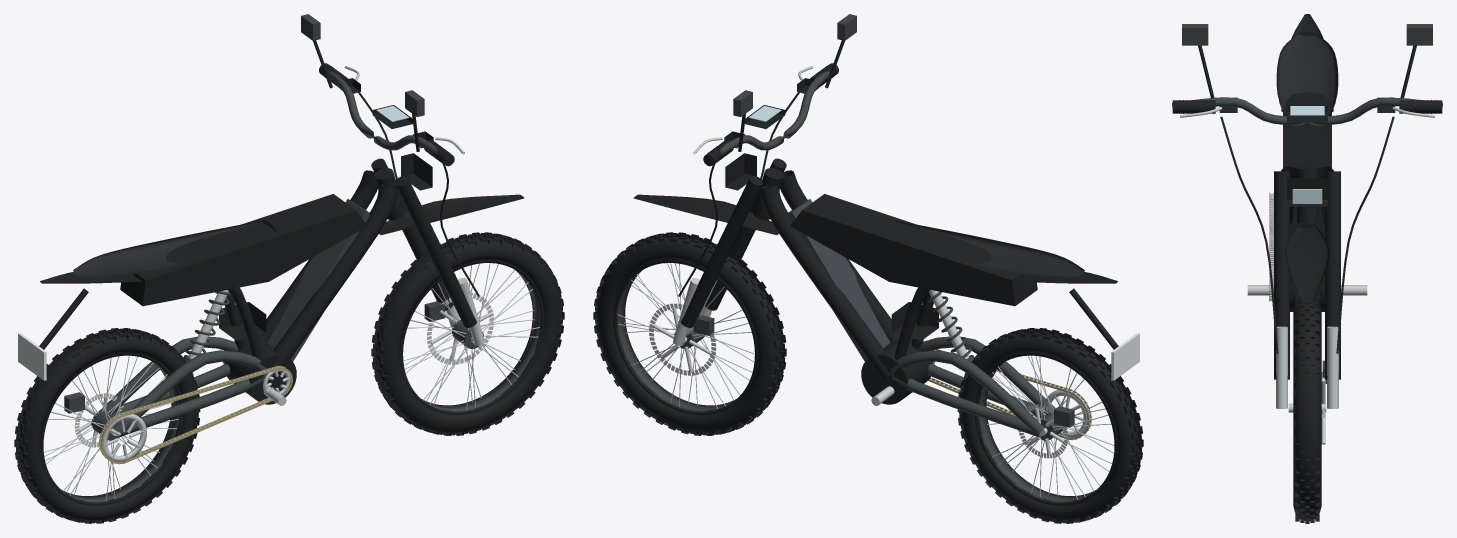
File: talaria-xxx-l1e.glb
The picture shows the model from 3 angles, left to right: view 1: azimuth 30°, elevation 25°; view 2: azimuth 150°, elevation 25°; view 3: azimuth 270°, elevation 25°; orthographic projection. The views are drawn at different scales.
Visible parts, largest first — view 1: FrontWheel | rubber, BatteryMount | black, RearWheel | rubber, Chassis | black, RearSuspension | graphite, Bodywork | black, Fork | black, FrontWheel | steel, Bodywork | seat, RearWheel | steel, Bodywork | graphite, FrontWheel | graphite (+12 smaller); view 2: FrontWheel | rubber, BatteryMount | black, RearWheel | rubber, Chassis | black, RearSuspension | graphite, Bodywork | black, FrontWheel | steel, Fork | black, Bodywork | seat, RearWheel | steel, Bodywork | graphite, Cockpit | graphite (+11 smaller); view 3: FrontWheel | rubber, Fork | black, Bodywork | black, Bodywork | seat, Cockpit | graphite, BatteryMount | black, Cockpit | rubber, Fork | steel, Cockpit | black, Chassis | black, Drive | steel, Bodywork | lens (+3 smaller).
Part boxes in pixels (x1=…): FrontWheel | rubber: x1=371, y1=232, x2=564, y2=435; BatteryMount | black: x1=120, y1=194, x2=367, y2=306; RearWheel | rubber: x1=14, y1=328, x2=200, y2=523; Chassis | black: x1=224, y1=168, x2=404, y2=379; RearSuspension | graphite: x1=98, y1=291, x2=267, y2=437; Bodywork | black: x1=39, y1=153, x2=524, y2=349; Fork | black: x1=371, y1=158, x2=476, y2=327; FrontWheel | steel: x1=403, y1=263, x2=539, y2=409; Bodywork | seat: x1=73, y1=220, x2=276, y2=277; RearWheel | steel: x1=43, y1=355, x2=178, y2=500; Bodywork | graphite: x1=267, y1=199, x2=369, y2=361; FrontWheel | graphite: x1=422, y1=271, x2=540, y2=411; FrontWheel | rubber: x1=593, y1=232, x2=786, y2=435; BatteryMount | black: x1=790, y1=194, x2=1037, y2=306; RearWheel | rubber: x1=957, y1=328, x2=1143, y2=523; Chassis | black: x1=753, y1=168, x2=933, y2=379; RearSuspension | graphite: x1=889, y1=291, x2=1055, y2=437; Bodywork | black: x1=633, y1=153, x2=1118, y2=349; FrontWheel | steel: x1=617, y1=263, x2=754, y2=408; Fork | black: x1=681, y1=158, x2=786, y2=327; Bodywork | seat: x1=881, y1=220, x2=1084, y2=277; RearWheel | steel: x1=987, y1=355, x2=1114, y2=499; Bodywork | graphite: x1=788, y1=199, x2=890, y2=361; Cockpit | graphite: x1=707, y1=14, x2=856, y2=161; FrontWheel | rubber: x1=1293, y1=294, x2=1321, y2=523; Fork | black: x1=1274, y1=171, x2=1340, y2=379; Bodywork | black: x1=1281, y1=14, x2=1333, y2=302; Bodywork | seat: x1=1276, y1=31, x2=1338, y2=135; Cockpit | graphite: x1=1172, y1=24, x2=1442, y2=125; BatteryMount | black: x1=1283, y1=91, x2=1331, y2=168; Cockpit | rubber: x1=1172, y1=100, x2=1442, y2=353; Fork | steel: x1=1276, y1=326, x2=1338, y2=408; Cockpit | black: x1=1179, y1=45, x2=1435, y2=122; Chassis | black: x1=1281, y1=166, x2=1333, y2=225; Drive | steel: x1=1247, y1=193, x2=1367, y2=300; Bodywork | lens: x1=1292, y1=189, x2=1322, y2=203.
Size of the model in its own units: 1.81 by 1.27 by 0.7231.
